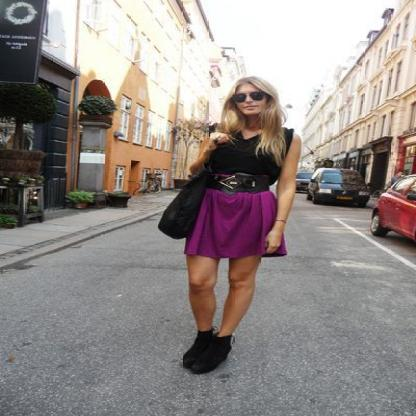bag: (158, 174, 211, 240)
shirt: (204, 130, 281, 181)
shoe: (182, 328, 232, 374)
skirt: (184, 192, 286, 268)
